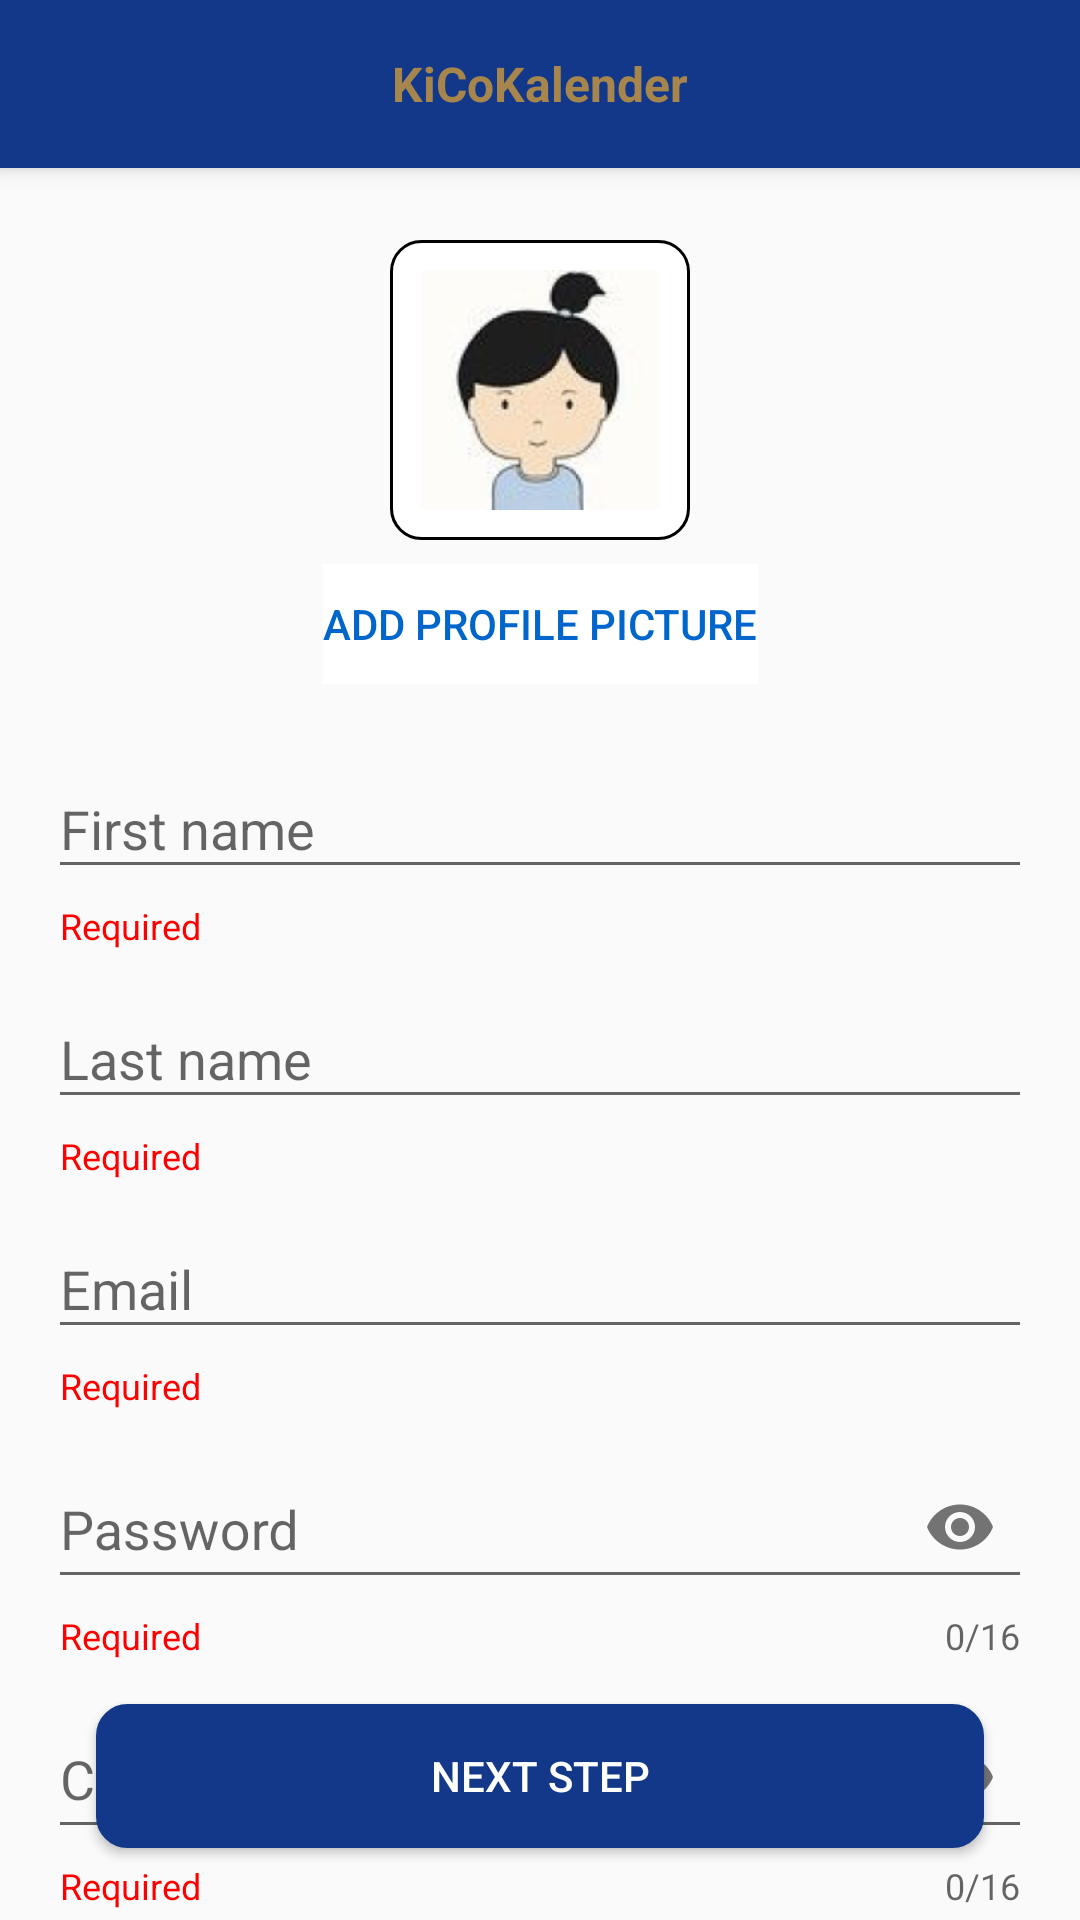

Locate icon controls on the screen. Image size 1080×1920, boxes as (x1, y1, x2, y2).
lady darkhair: (390, 240, 690, 540)
